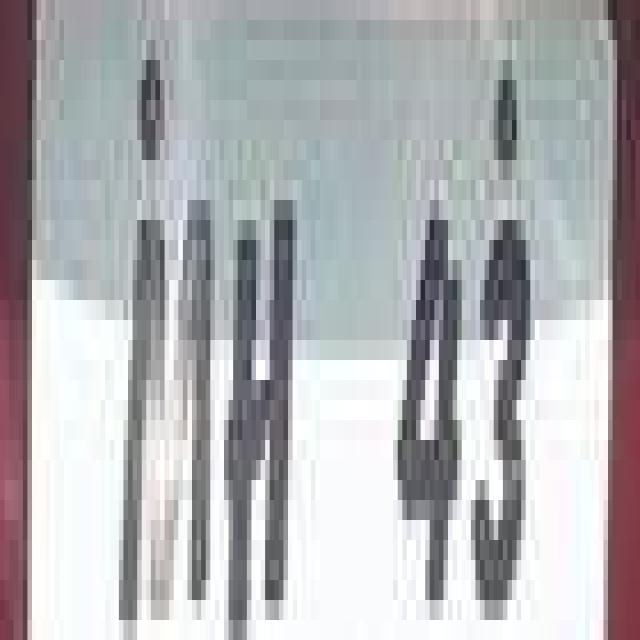license_plate: (46, 20, 631, 620)
